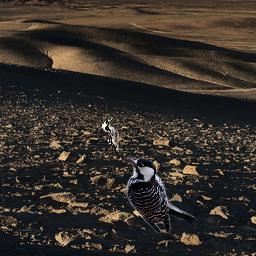Woodpecker: (123, 155, 197, 233), (101, 117, 119, 153)
